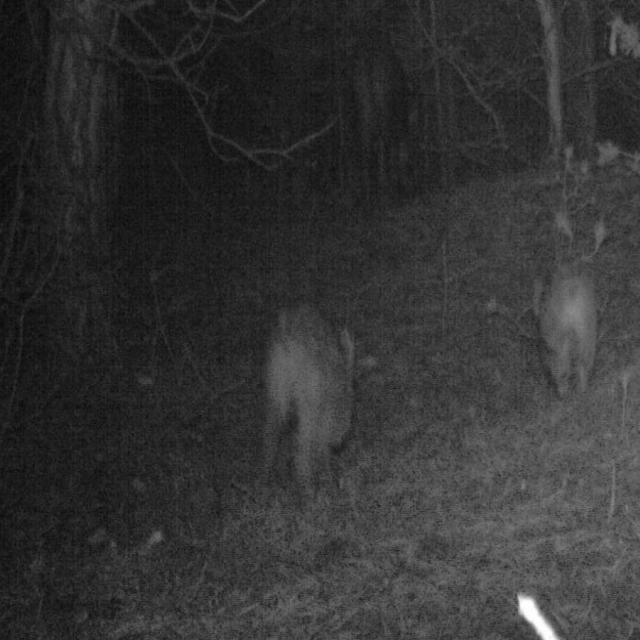pig: (223, 220, 378, 519), (493, 198, 640, 474)
